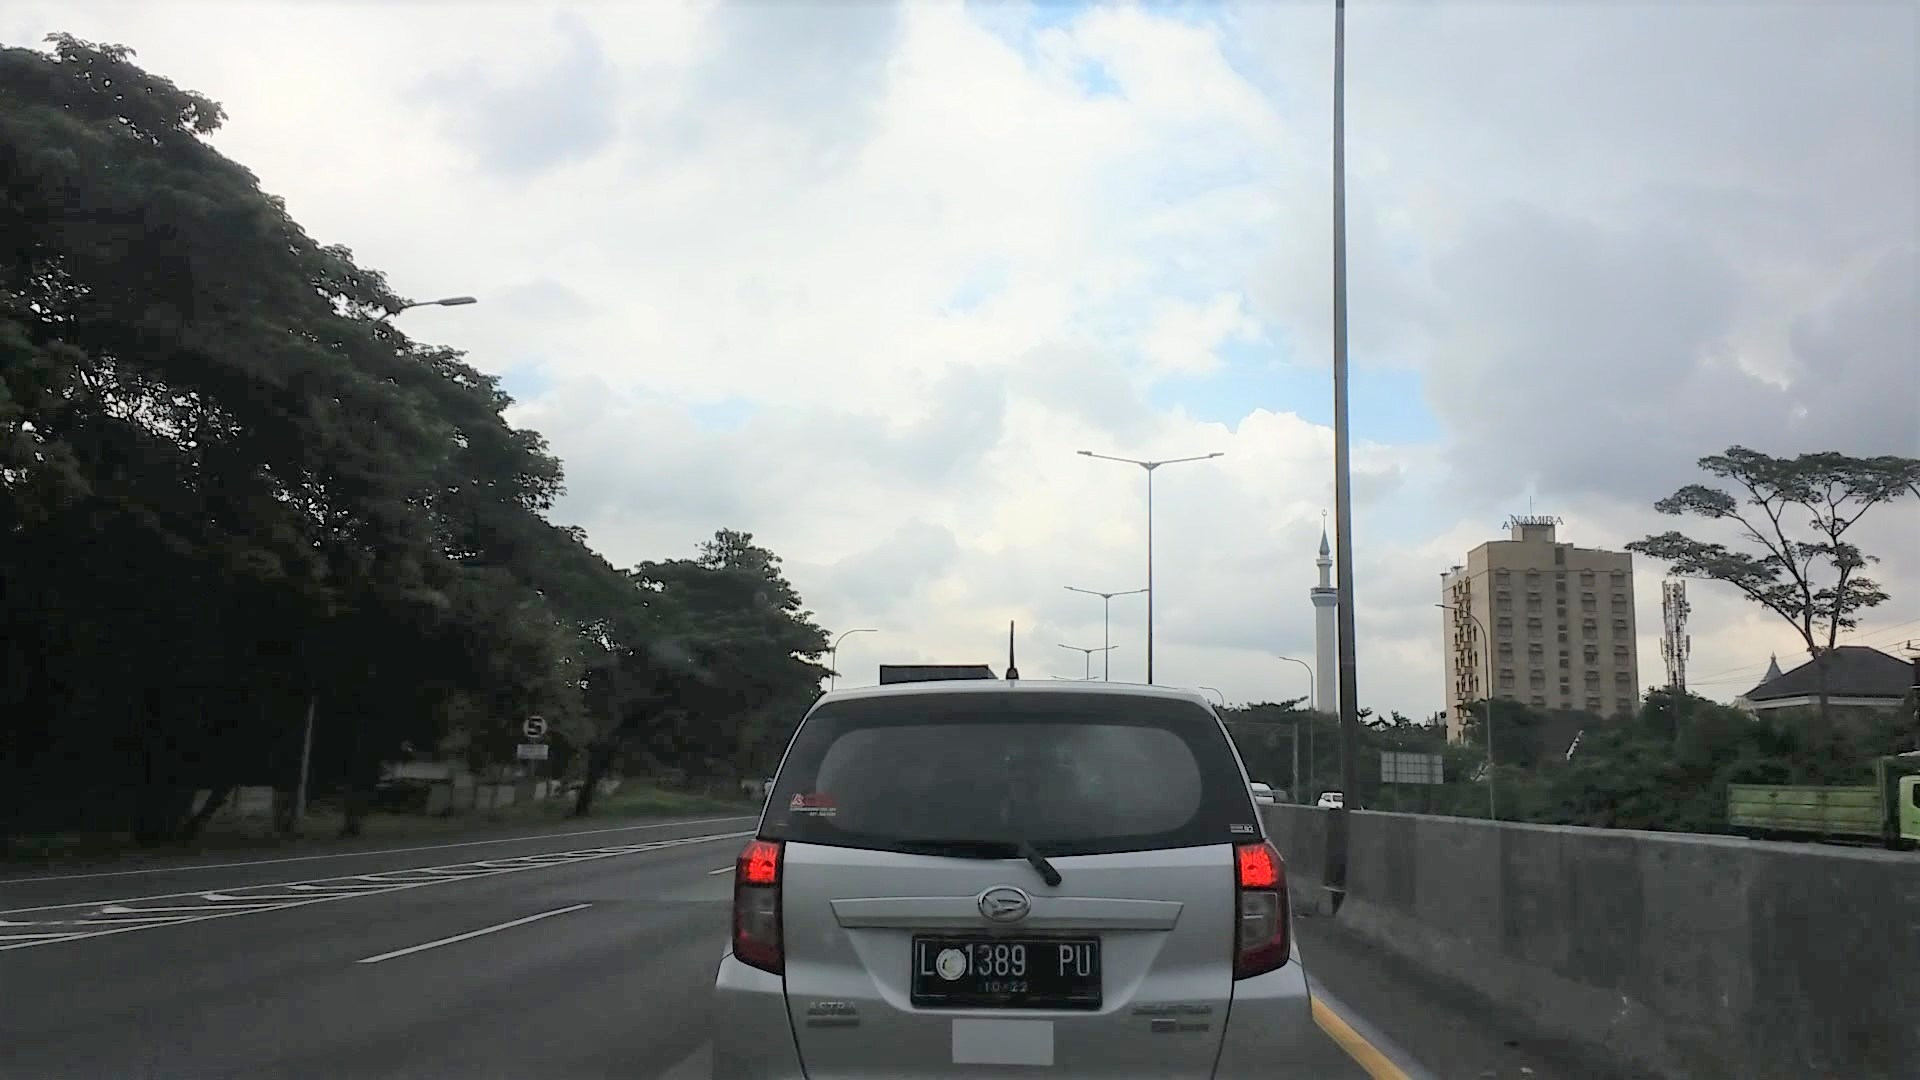plate_positive: (911, 934, 1102, 1011)
